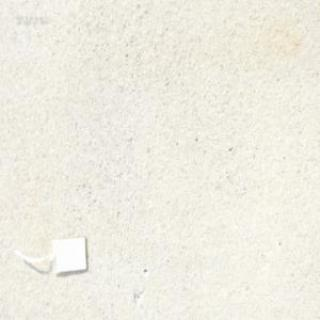LuggageTagtrack_idkeyframe: (12, 232, 89, 278)
